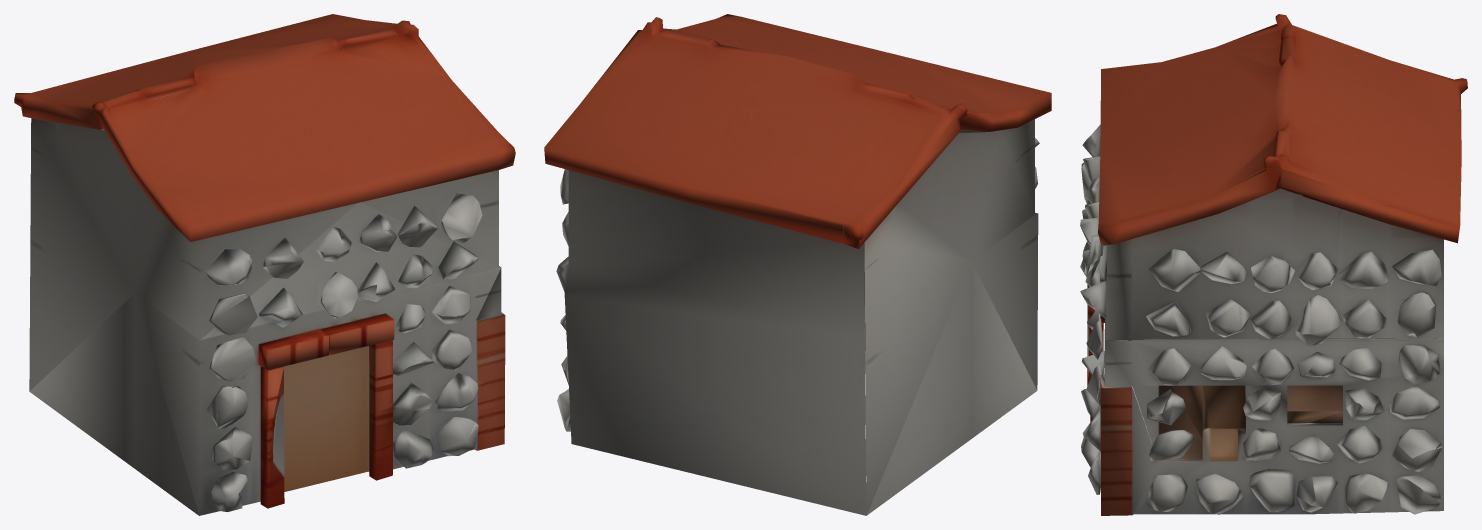
The model's file is loc_qz_bld_oyster.glb.
The picture shows the model from 3 angles, left to right: view 1: azimuth 30°, elevation 25°; view 2: azimuth 150°, elevation 25°; view 3: azimuth 270°, elevation 25°; orthographic projection.
Parts seen in each view (by area): view 1: loc_qz_bld_oyster; view 2: loc_qz_bld_oyster; view 3: loc_qz_bld_oyster.
Part boxes in pixels (x1,y1,x2,y2): loc_qz_bld_oyster: (14,14,515,515); loc_qz_bld_oyster: (544,14,1051,515); loc_qz_bld_oyster: (1080,14,1467,515).
Size of the model in its own units: 2 by 2.04 by 2.
1 material, 1 textured.
